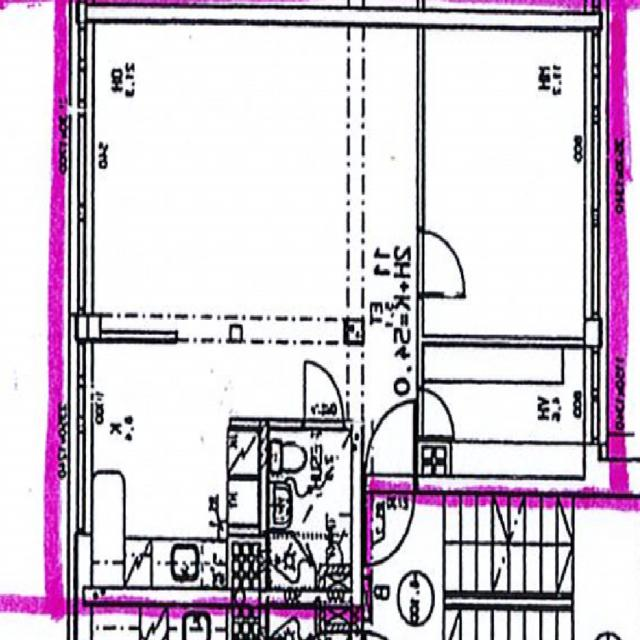door: (368, 475, 413, 564), (368, 407, 413, 495), (418, 232, 469, 298), (304, 358, 344, 431), (418, 392, 458, 440)
